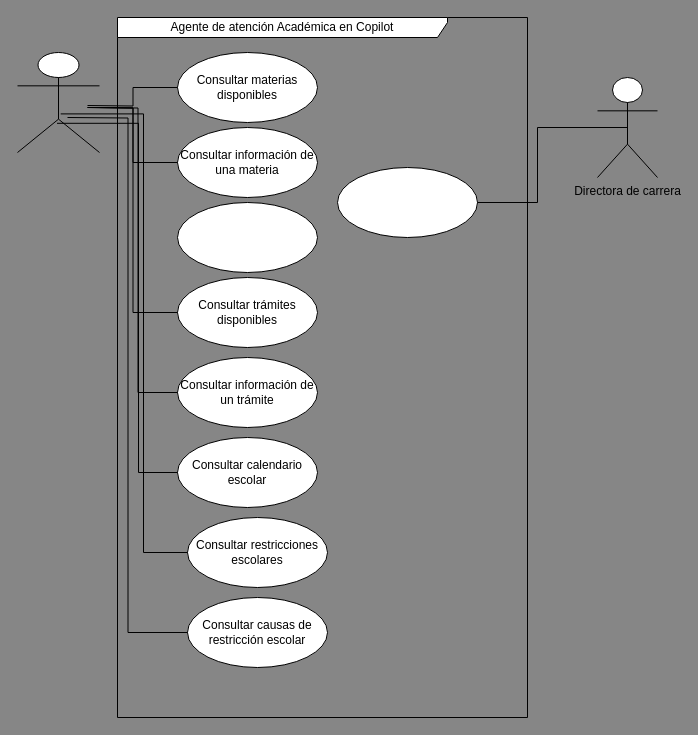
The diagram is 698 pixels wide and 735 high, and some of its shapes have lost their labels. The centre of each missing label's shape, as x and y in pixels:
Alumno: [58,102]
Consultar prerrequisitos de una materia: [247,237]
Modificar información académica: [407,202]
